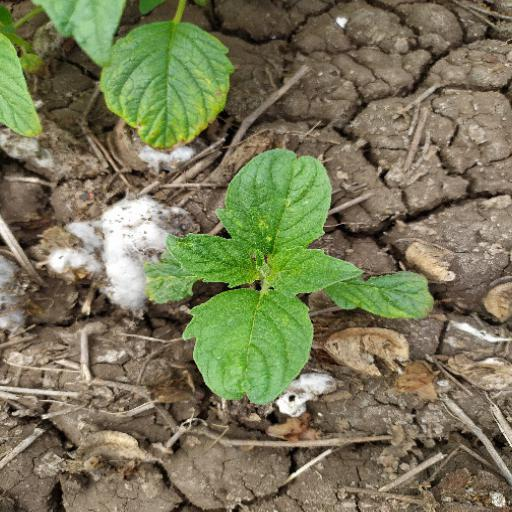crop: (112, 143, 440, 406)
